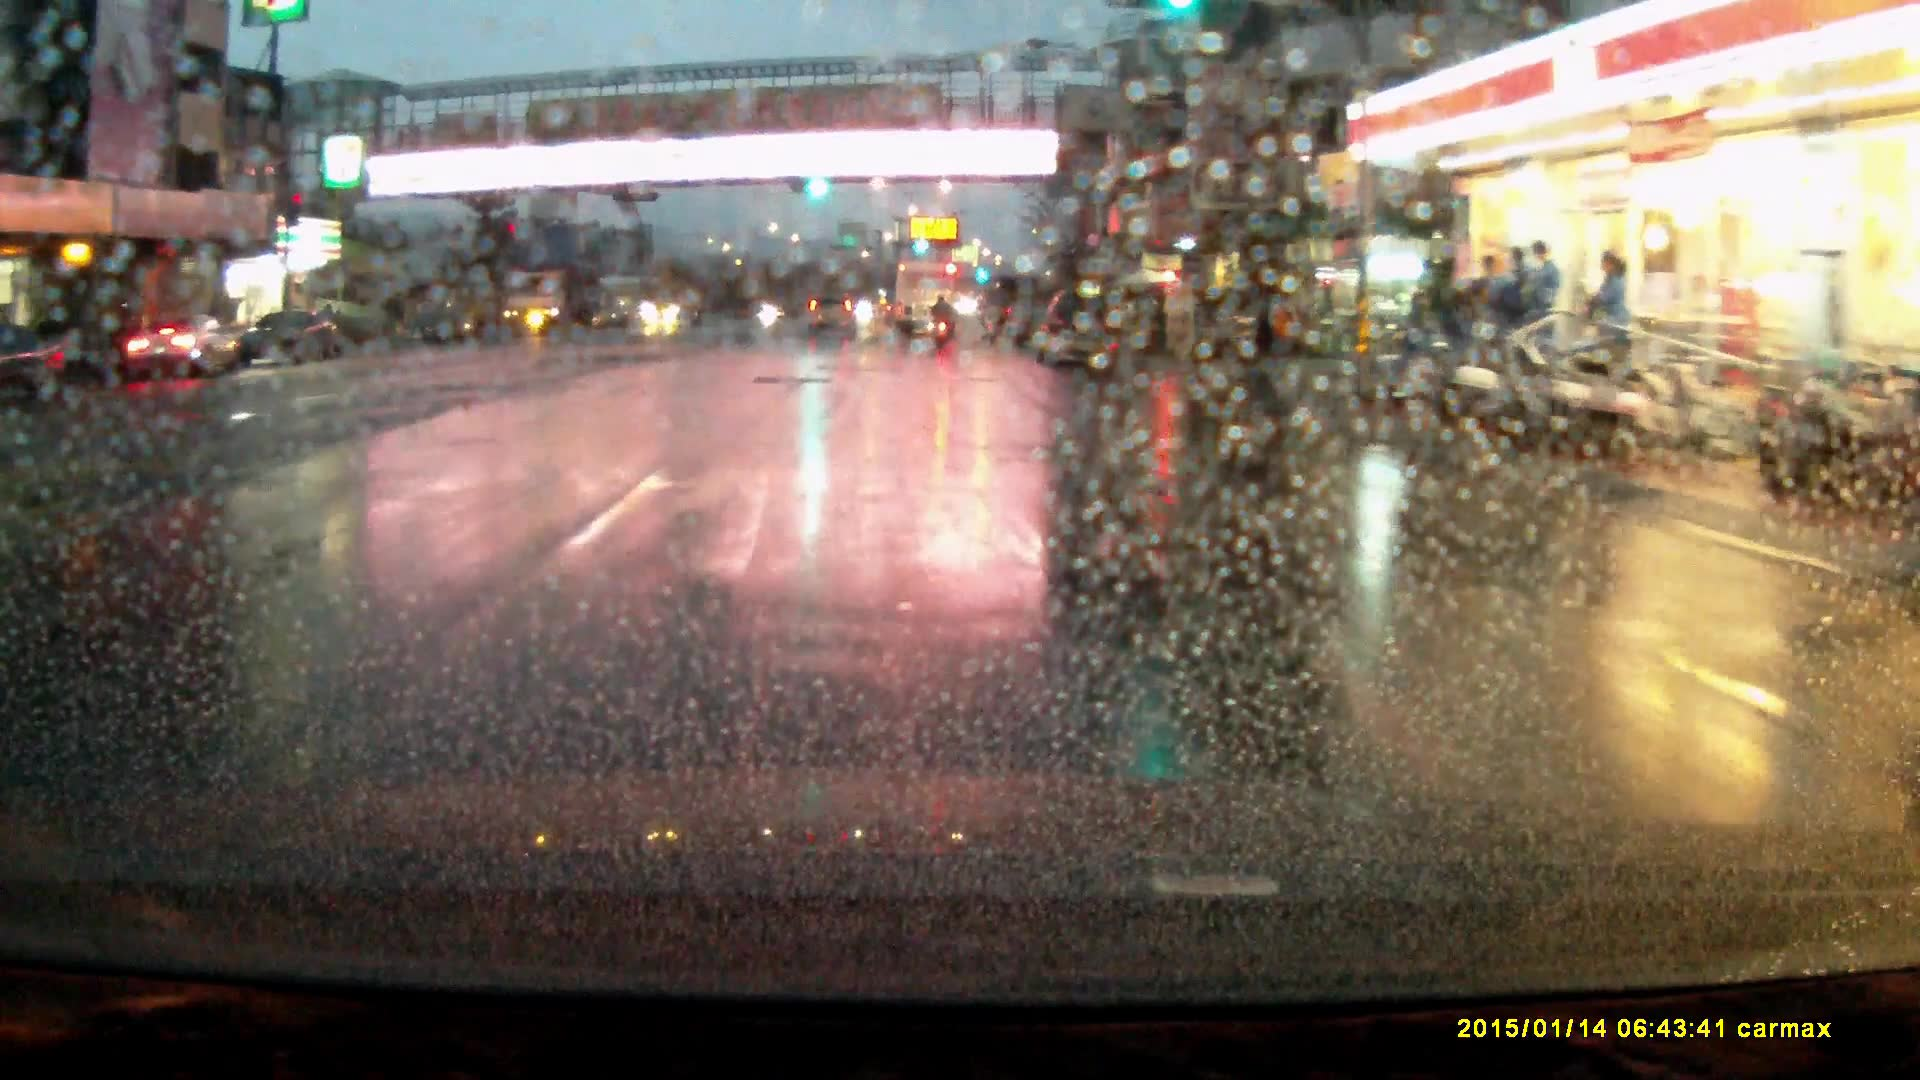rider: (932, 291, 957, 349)
vehicle: (503, 259, 602, 338), (125, 317, 236, 382), (1039, 289, 1121, 372), (239, 308, 349, 367), (1200, 293, 1285, 358), (895, 258, 955, 340), (646, 283, 708, 328), (807, 295, 860, 341)
